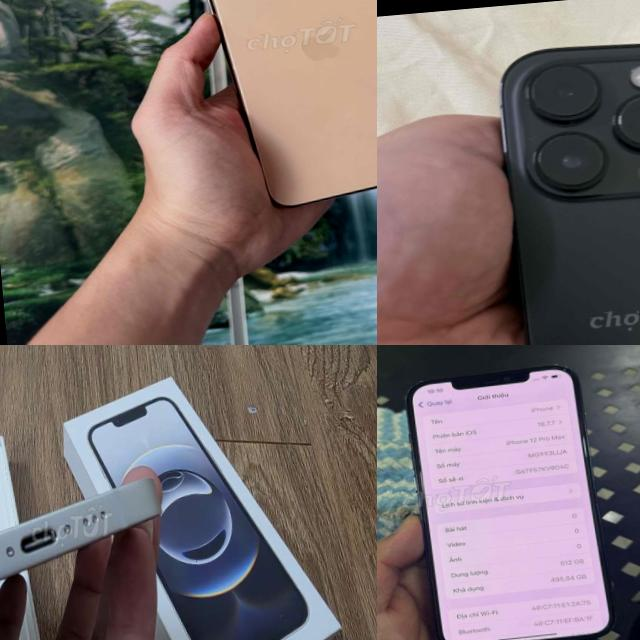gen_11: (183, 0, 377, 214)
gen_12_13: (400, 354, 616, 640)
gen_14: (469, 16, 640, 345)
gen_16: (0, 478, 160, 579)
